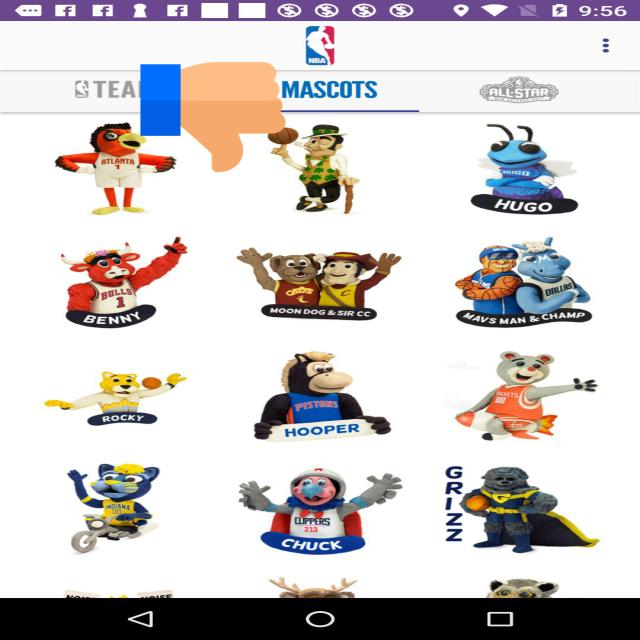obstruction: (140, 59, 286, 175)
